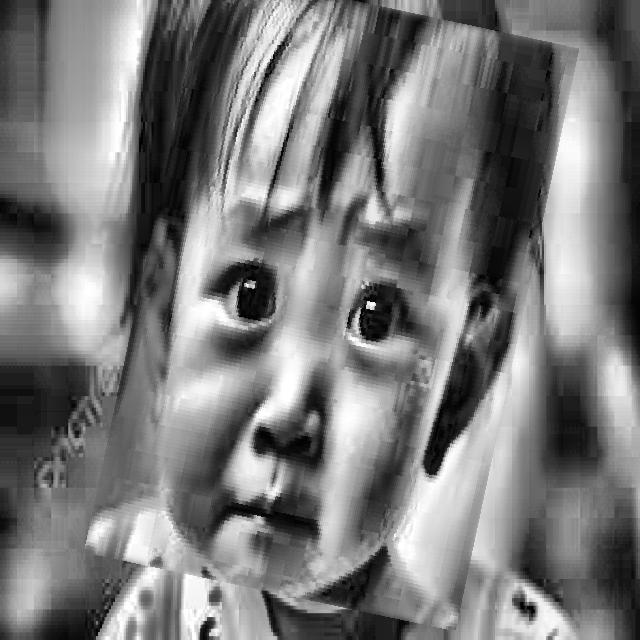sad: (113, 0, 551, 614)
